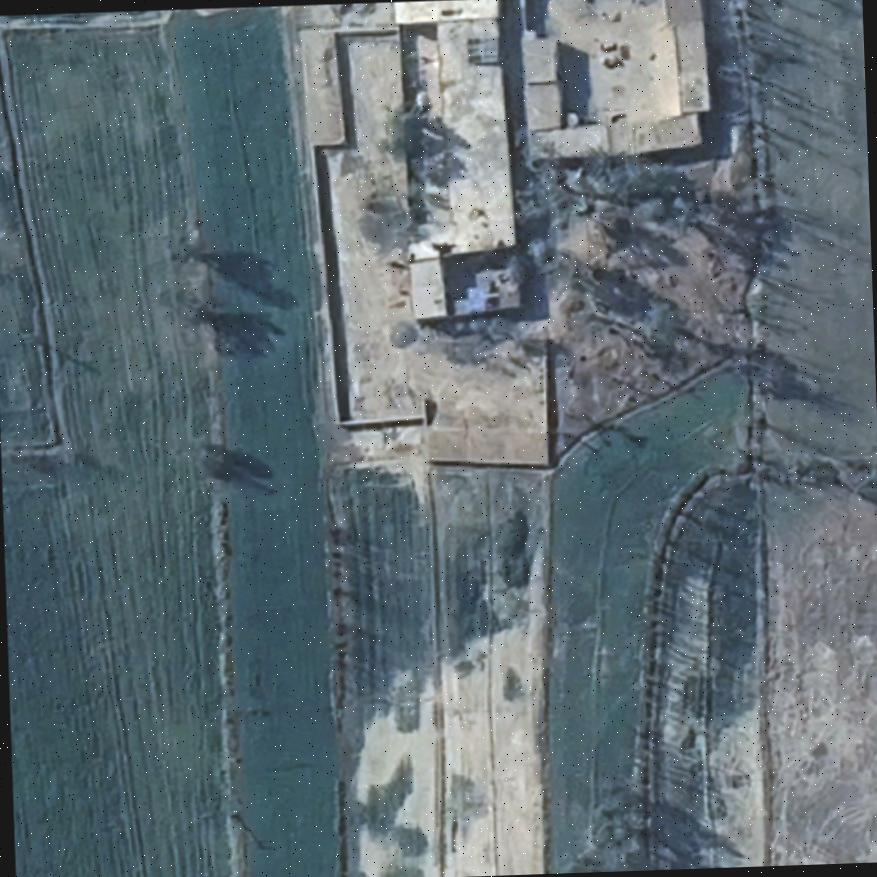Solarpanel: (463, 33, 502, 67)
